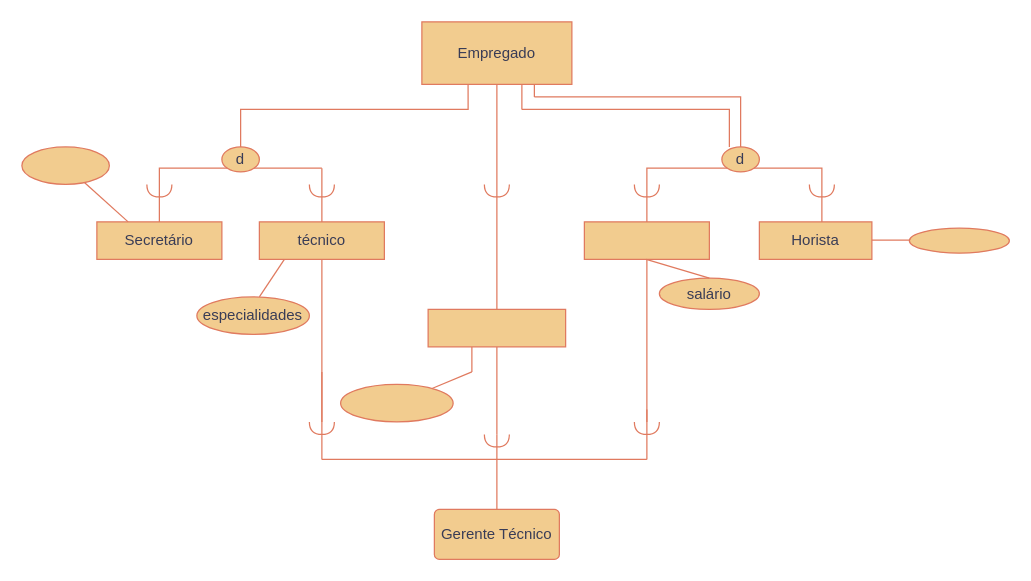
The diagram is 1031 pixels wide and 581 high, and some of its shapes have lost their labels. Each missing label, with the centre of its shape:
"Assalariado" belongs at (x=646, y=240).
"escala" belongs at (x=958, y=240).
"formação" belongs at (x=396, y=402).
"Gerente" belongs at (x=496, y=327).
"idiomas" belongs at (x=65, y=165).
